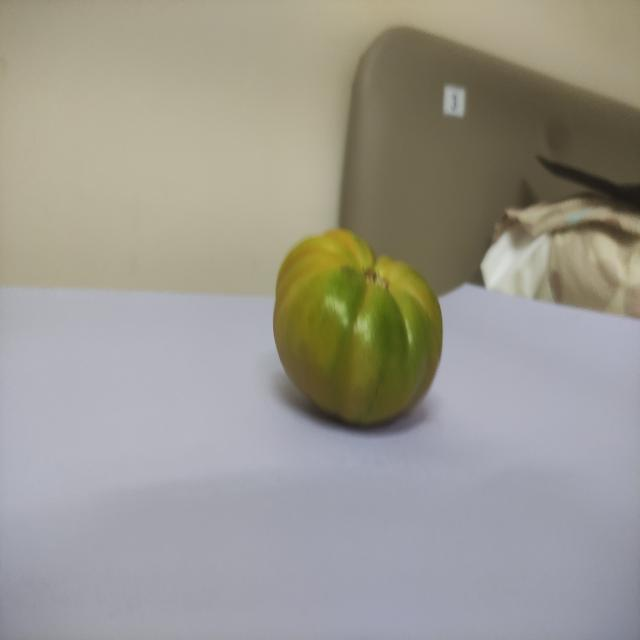unripe tomato: (273, 216, 461, 438)
